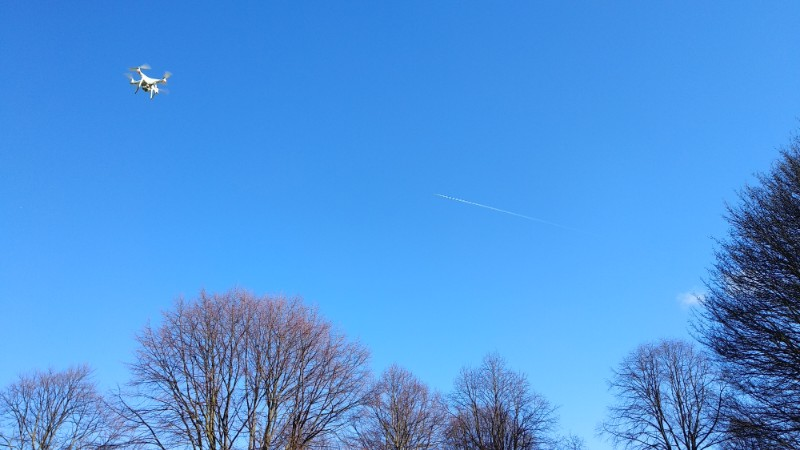drone: (124, 62, 175, 103)
